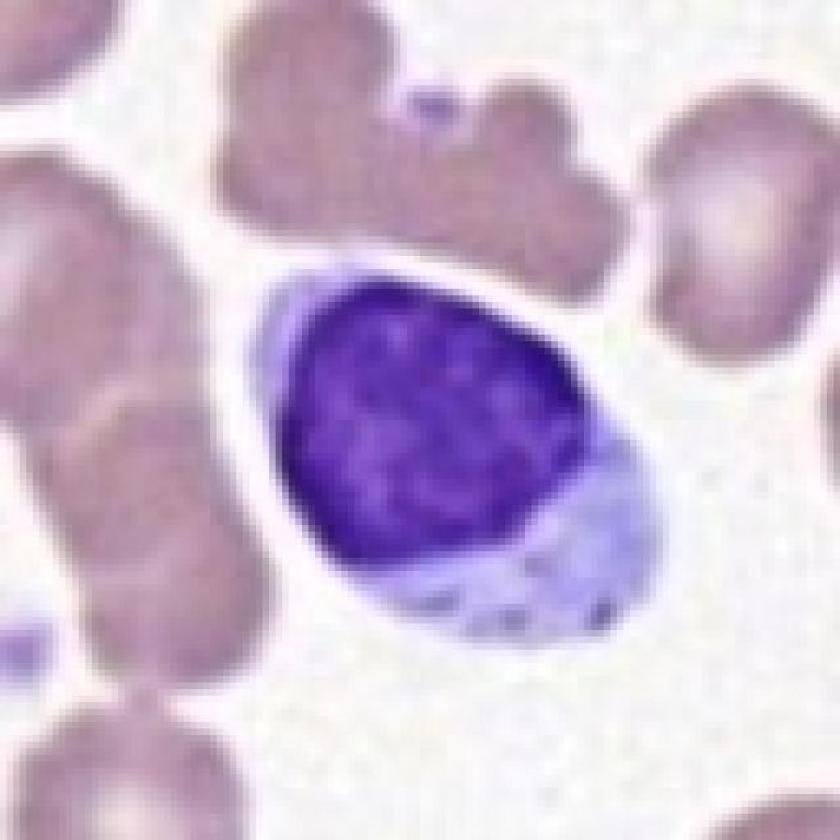lymphocyte: (238, 248, 679, 661)
